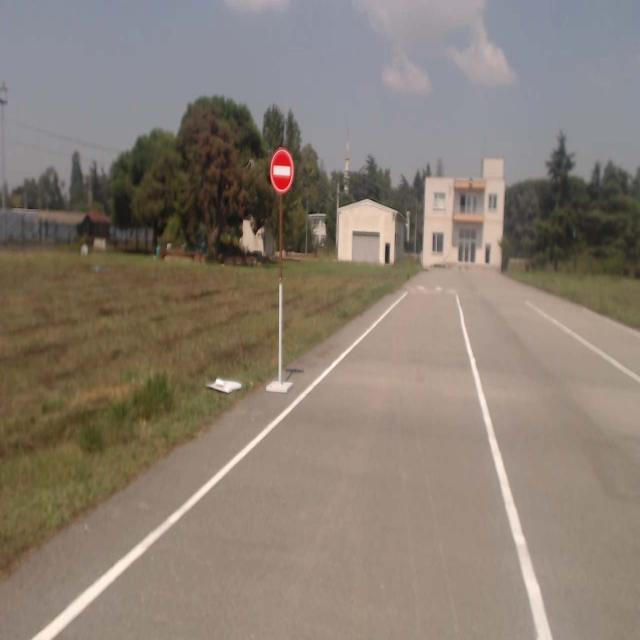girisyok: (269, 148, 295, 192)
